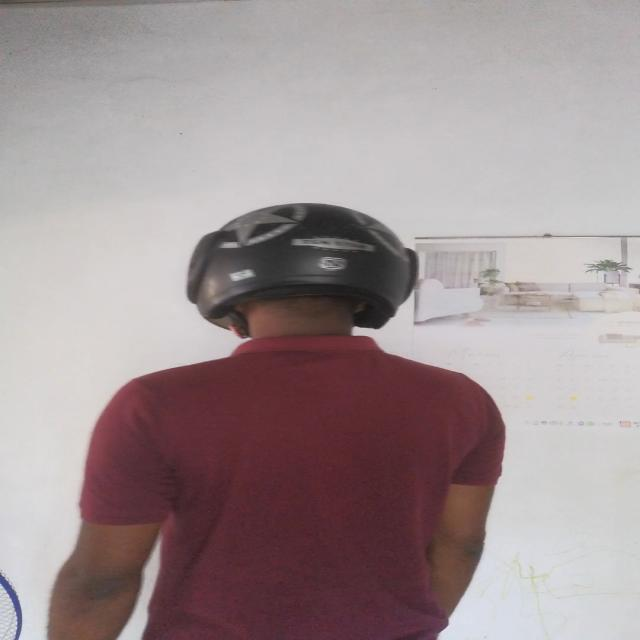Helmet_Wearer: (152, 200, 432, 381)
